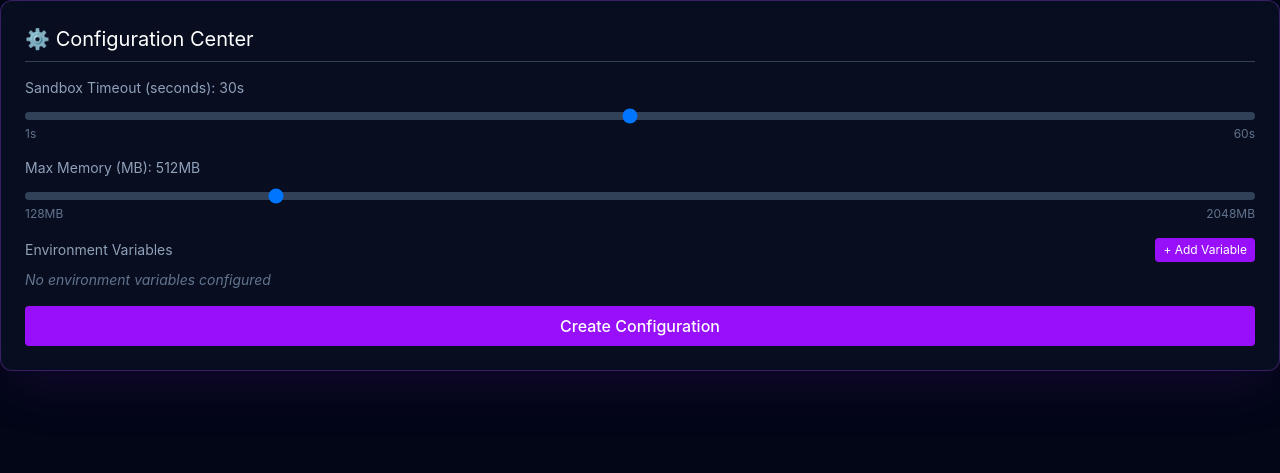
Test: ConfigPanel › 应当能保存配置
Expected: the text "⚙️ Configuration Center" is shown, x1=25 y1=25 x2=254 y2=53
Click the button "+ Add Variable" at (1205, 250), box x1=1155 y1=238 x2=1255 y2=262
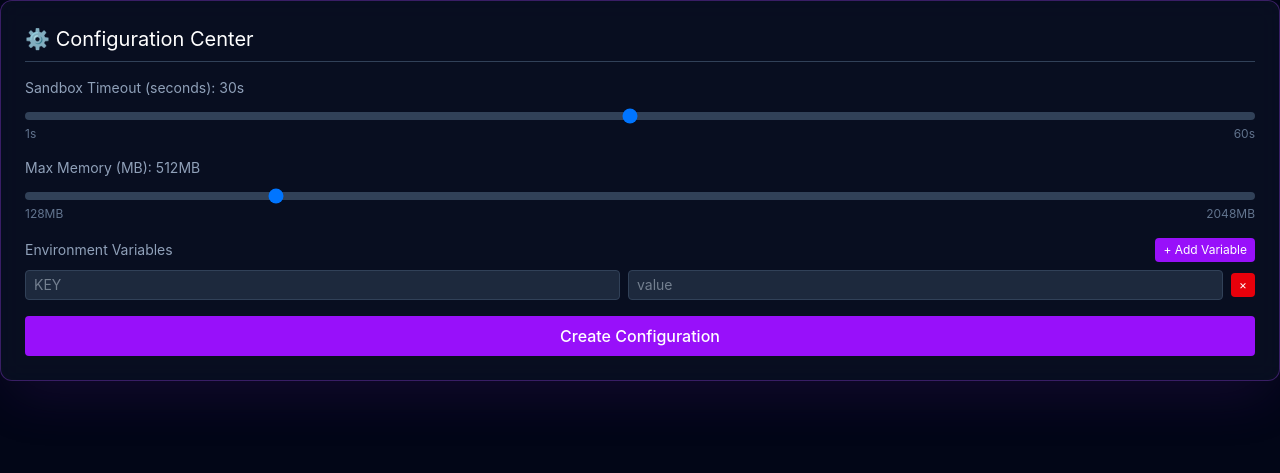
Type "TEST_VAR" into the field with placeholder "KEY" at (322, 285), box x1=25 y1=270 x2=620 y2=300
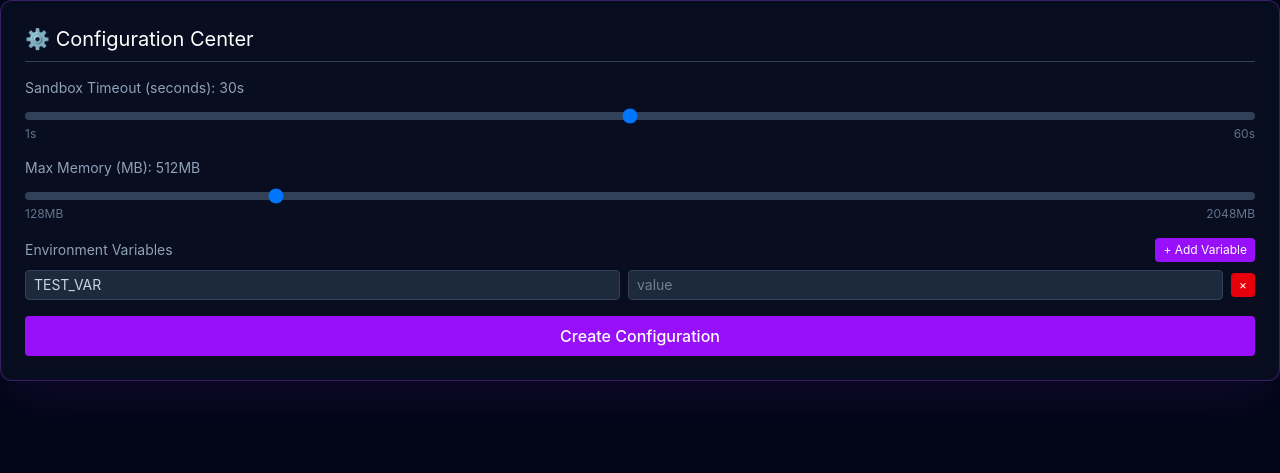
Type "test_value" into the field with placeholder "value" at (926, 285), box x1=628 y1=270 x2=1223 y2=300
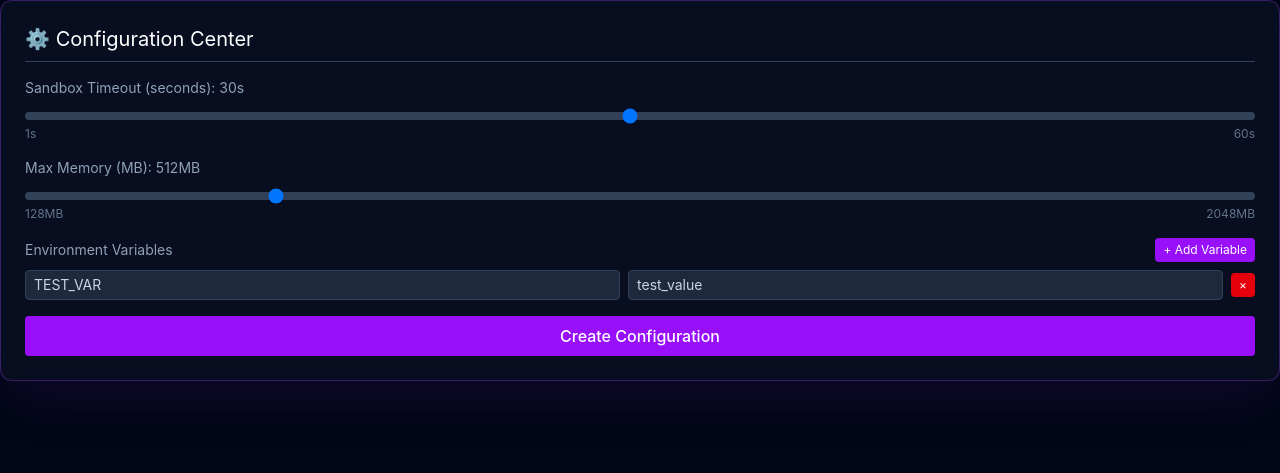
Click the button "Create Configuration" at (640, 336), box x1=25 y1=316 x2=1255 y2=356
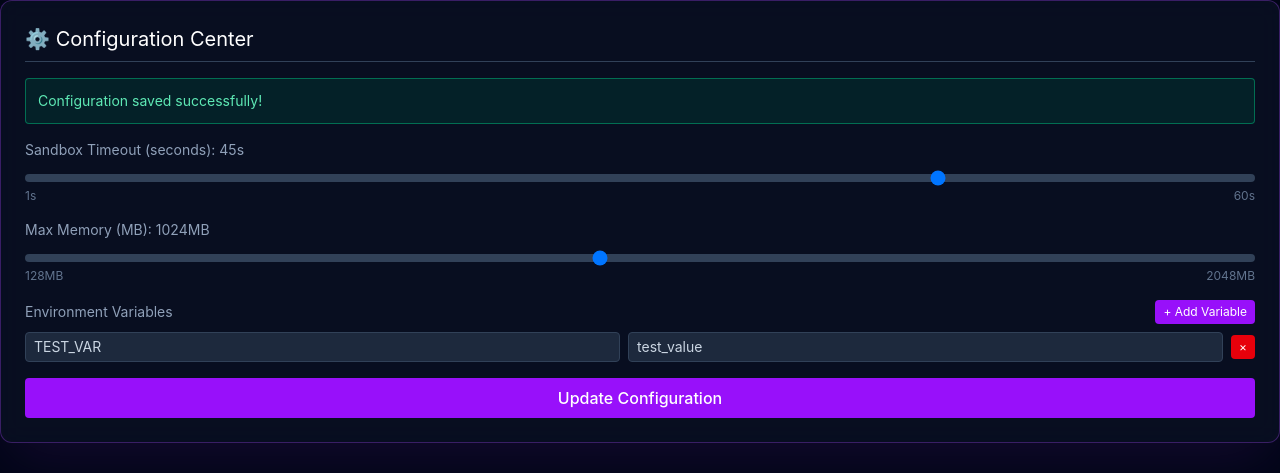
Result: the text "Configuration saved successfully!" is shown at x1=25 y1=78 x2=1255 y2=124
